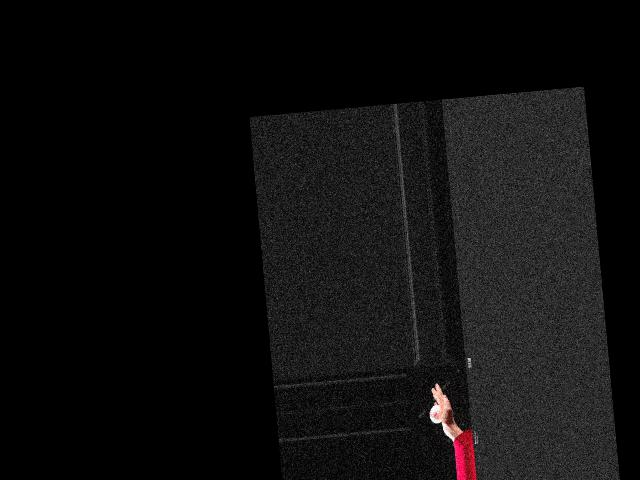egg: (429, 405, 442, 424)
